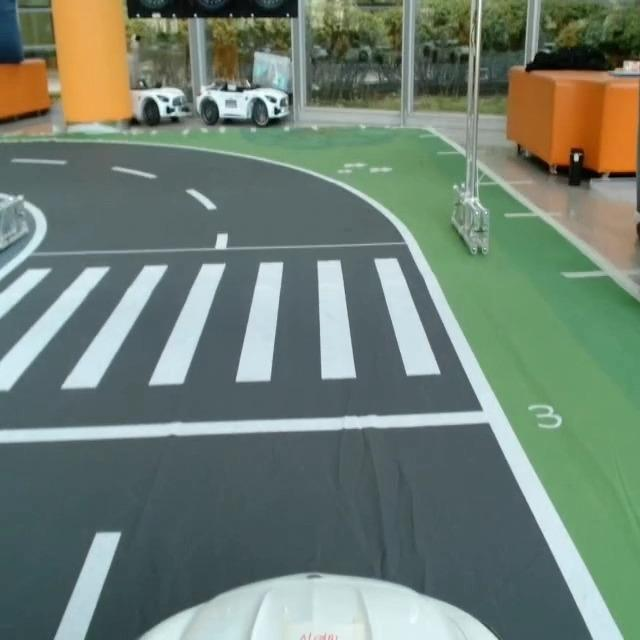traffic-light: (120, 0, 306, 23)
